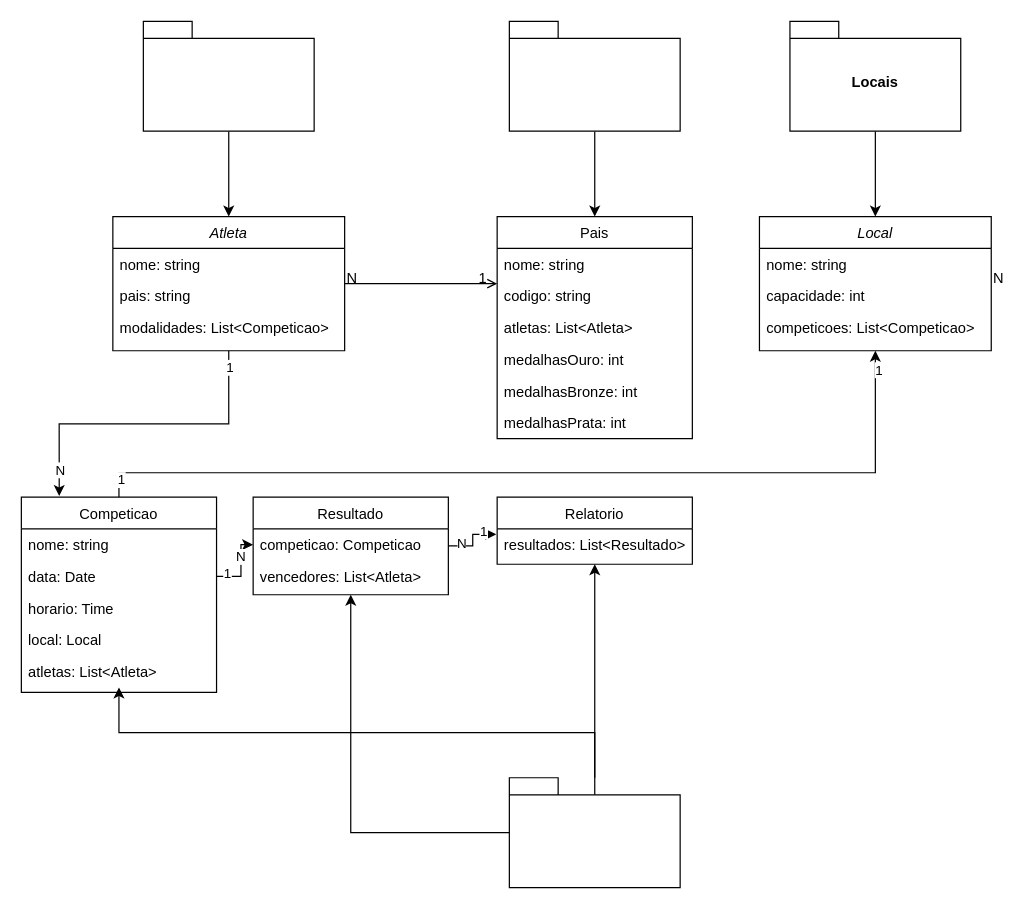
This 1026x909 diagram has some shape labels left out. Here are the shapes that lost their labels. From the top down, the centre of each, then its label:
At (228,75): "Atletas".
At (594,75): "Paises".
At (594,832): "Competicoes".
